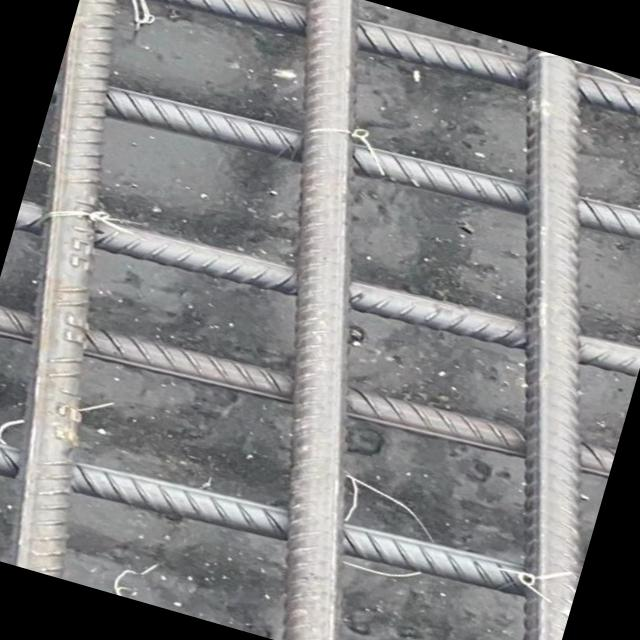ribbed bar: (134, 0, 510, 640), (351, 46, 640, 640), (12, 169, 640, 407), (0, 270, 615, 510), (0, 0, 240, 579), (97, 57, 640, 278), (0, 403, 533, 628), (110, 0, 640, 160)
